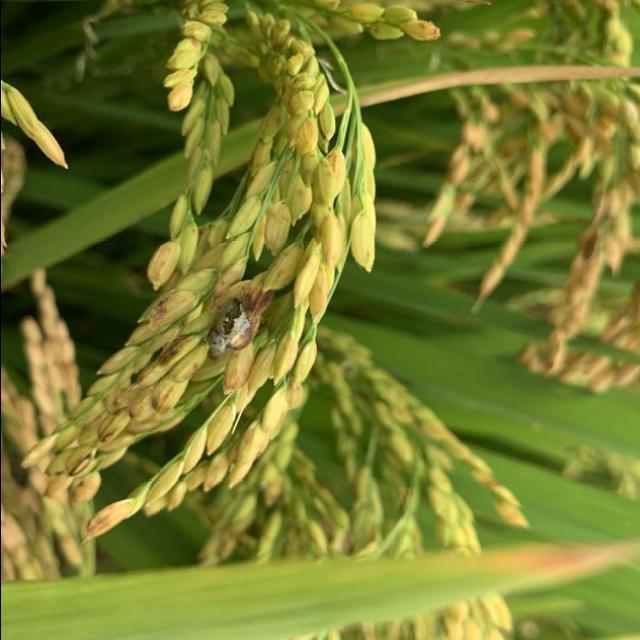Leaf_Scald: (204, 294, 262, 360)
